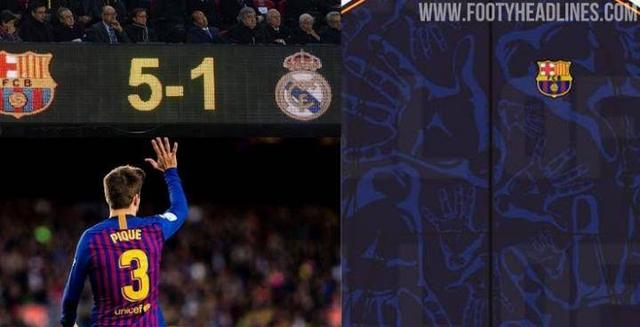hand: (142, 134, 179, 171)
